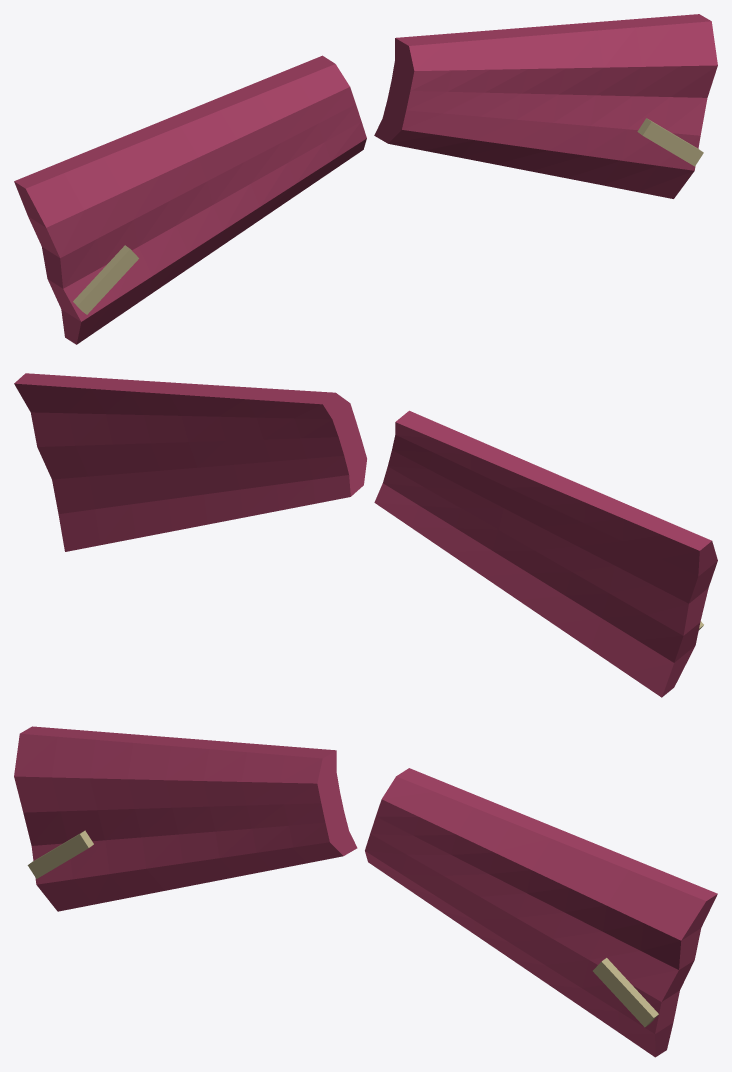
Rendered from flowing_pair.obj.
3 views of the same model, one above another, from view 1: azimuth 30°, elevation 25°; view 2: azimuth 150°, elevation 25°; view 3: azimuth 330°, elevation 25° (orthographic).
Parts seen in each view (by area): view 1: flowing_1_flowing_sleeve, flowing_-1_flowing_sleeve, flowing_-1_flowing_sleeve_edge, flowing_1_flowing_sleeve_edge, flowing_trim_1, flowing_trim_-1, flowing_trim_-1_edge; view 2: flowing_1_flowing_sleeve_back, flowing_-1_flowing_sleeve_back, flowing_-1_flowing_sleeve_edge, flowing_1_flowing_sleeve_edge; view 3: flowing_-1_flowing_sleeve, flowing_1_flowing_sleeve, flowing_1_flowing_sleeve_edge, flowing_-1_flowing_sleeve_edge, flowing_trim_1, flowing_trim_-1, flowing_trim_1_edge.
Boxes of the visible parts, x1,y1,x2,y2 form: flowing_1_flowing_sleeve: (388, 21, 717, 198); flowing_-1_flowing_sleeve: (26, 64, 366, 344); flowing_-1_flowing_sleeve_edge: (14, 55, 334, 344); flowing_1_flowing_sleeve_edge: (374, 14, 711, 143); flowing_trim_1: (643, 122, 703, 166); flowing_trim_-1: (78, 249, 138, 314); flowing_trim_-1_edge: (73, 245, 129, 314); flowing_1_flowing_sleeve_back: (14, 383, 350, 551); flowing_-1_flowing_sleeve_back: (374, 422, 699, 697); flowing_-1_flowing_sleeve_edge: (396, 410, 717, 697); flowing_1_flowing_sleeve_edge: (14, 373, 366, 496); flowing_-1_flowing_sleeve: (14, 733, 342, 911); flowing_1_flowing_sleeve: (365, 776, 706, 1056); flowing_1_flowing_sleeve_edge: (396, 768, 717, 1057); flowing_-1_flowing_sleeve_edge: (20, 726, 357, 855); flowing_trim_1: (593, 961, 653, 1027); flowing_trim_-1: (27, 834, 88, 878); flowing_trim_1_edge: (602, 958, 658, 1026).
Bounding box in the file's own units: 2.63 × 0.7913 × 0.2276.
